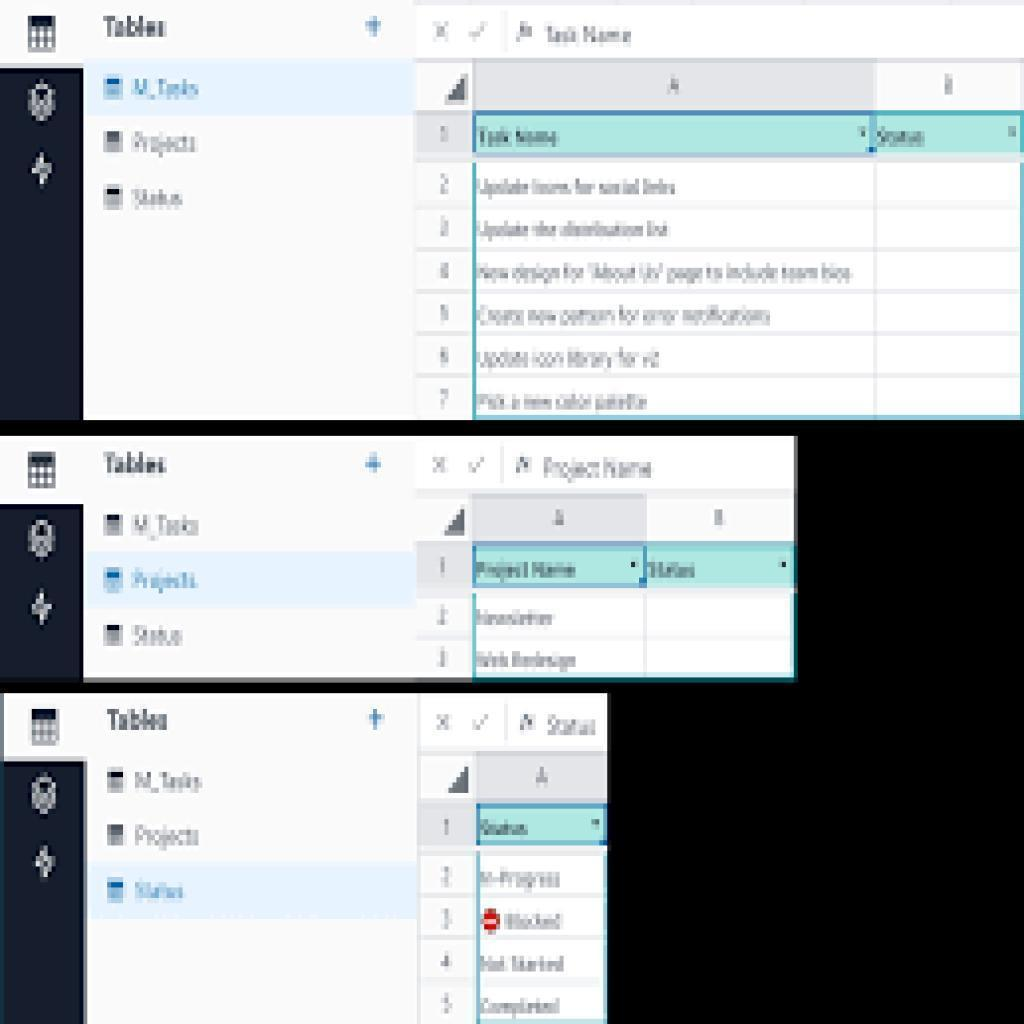icon: (12, 434, 69, 500), (19, 699, 79, 757), (15, 6, 67, 55), (21, 513, 63, 568), (21, 75, 61, 129), (21, 581, 65, 625), (26, 772, 64, 822), (25, 839, 62, 890), (21, 152, 60, 192), (103, 764, 133, 803), (96, 73, 130, 105), (99, 569, 130, 603), (97, 180, 123, 220), (104, 874, 131, 911), (360, 447, 388, 482), (99, 619, 127, 652), (429, 706, 458, 736), (100, 124, 126, 157), (100, 510, 126, 543), (429, 14, 455, 47), (471, 710, 500, 739), (103, 821, 130, 850), (463, 19, 492, 46), (363, 13, 389, 43), (426, 451, 455, 476), (464, 450, 487, 478), (366, 707, 388, 736)
